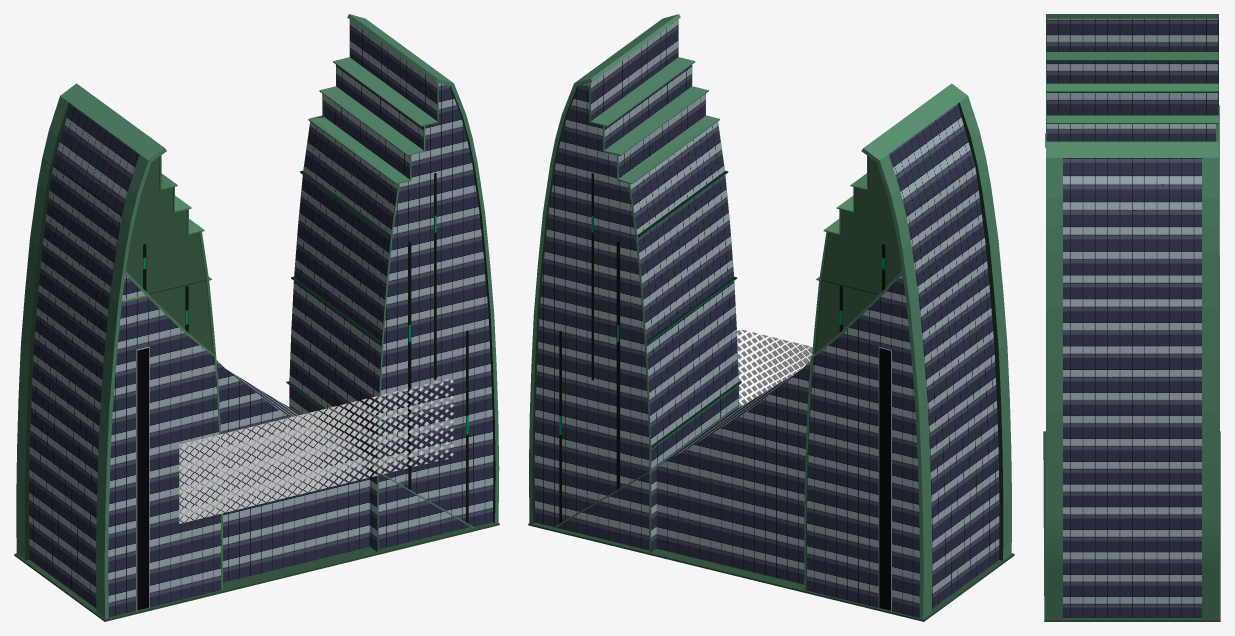
The model's file is Building_001_2st_L1.fbx.
3 renders of one model, left to right at view 1: azimuth 30°, elevation 25°; view 2: azimuth 150°, elevation 25°; view 3: azimuth 270°, elevation 25°, orthographic. The views are drawn at different scales.
Visible parts, largest first — view 1: Building_001_2st_L1; view 2: Building_001_2st_L1; view 3: Building_001_2st_L1.
Boxes of the visible parts, <box> form: Building_001_2st_L1: <box>14,14,499,621</box>; Building_001_2st_L1: <box>528,14,1014,621</box>; Building_001_2st_L1: <box>1043,14,1220,621</box>.
Size of the model in its own units: 72.48 by 28.73 by 80.75.
